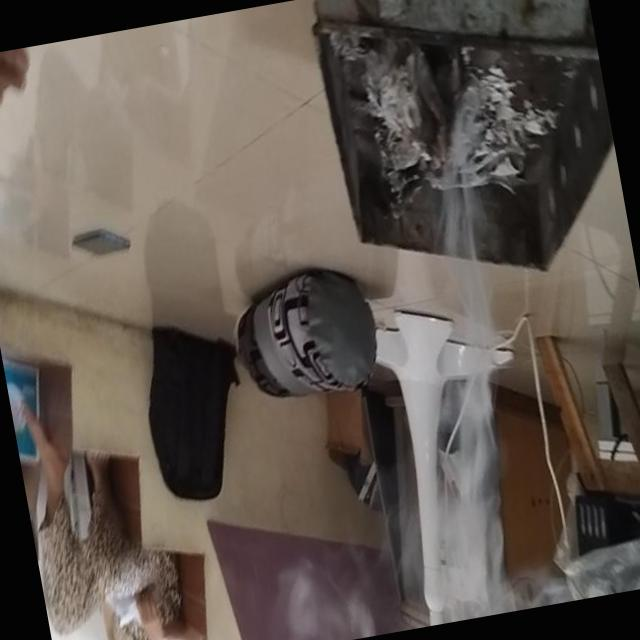smoke: (332, 72, 550, 374), (291, 351, 516, 640)
